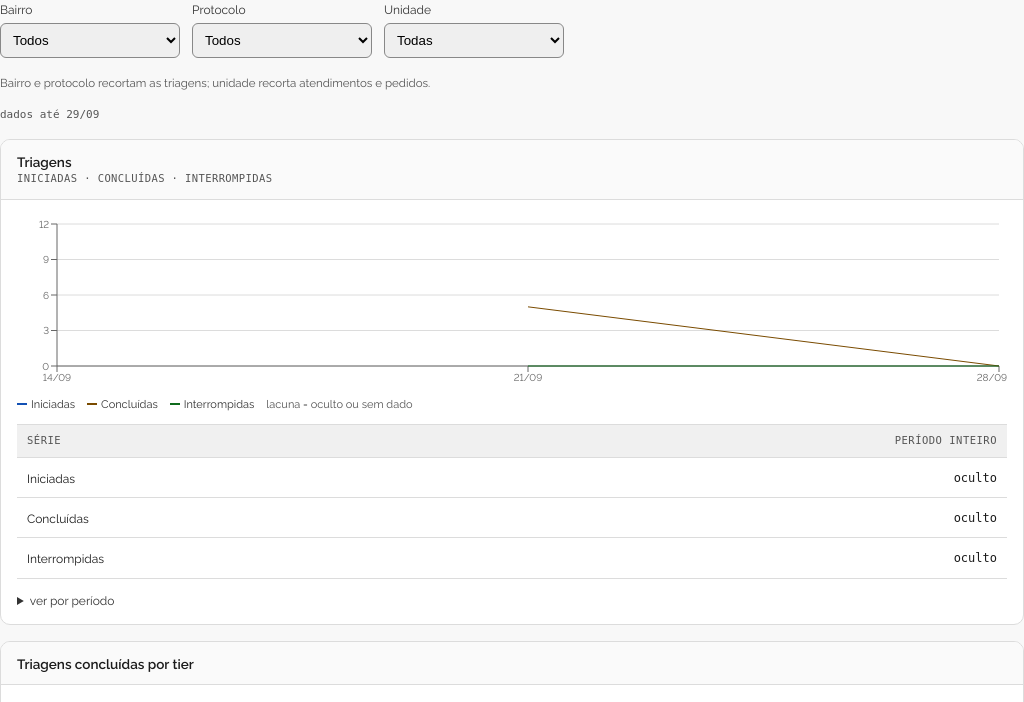
Scenario: DemandTab › bairro que não existe na cidade: 422 vira frase
The image size is (1024, 702).
Select "Sem bairro" in the dropdown labelled "Bairro" at (90, 41), box [0, 23, 180, 58]
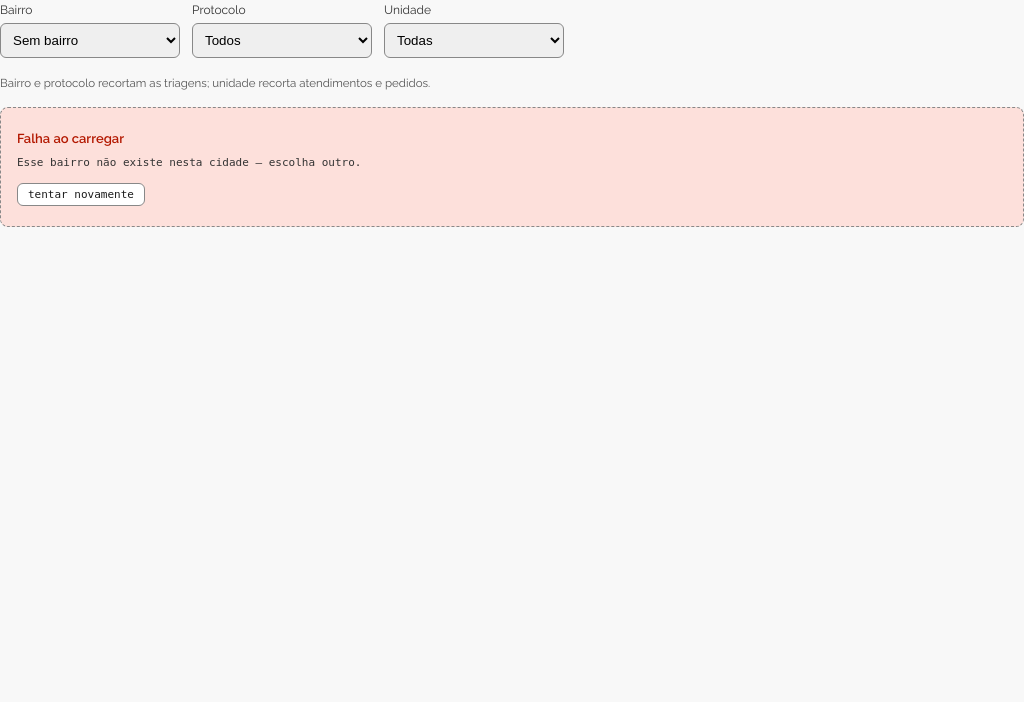
Expected: the text "Esse bairro não existe nesta cidade — escolha outro." is shown, [17, 155, 361, 171]
